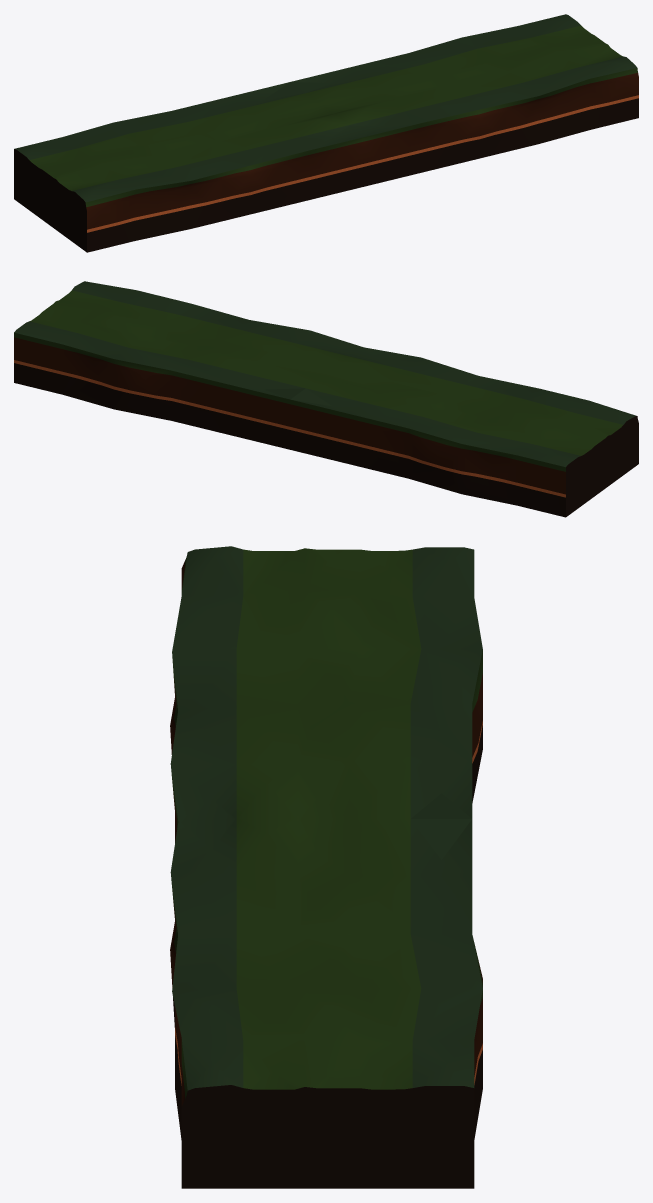
File: floor.FBX
3 renders of one model, top to bottom at view 1: azimuth 30°, elevation 25°; view 2: azimuth 150°, elevation 25°; view 3: azimuth 270°, elevation 25°, orthographic. The views are drawn at different scales.
Parts seen in each view (by area): view 1: Box002; view 2: Box002; view 3: Box002.
Boxes of the visible parts, x1=… form: Box002: x1=14, y1=14, x2=638, y2=252; Box002: x1=14, y1=281, x2=638, y2=517; Box002: x1=170, y1=546, x2=482, y2=1188.
Size of the model in its own units: 239 by 22.99 by 58.6.
